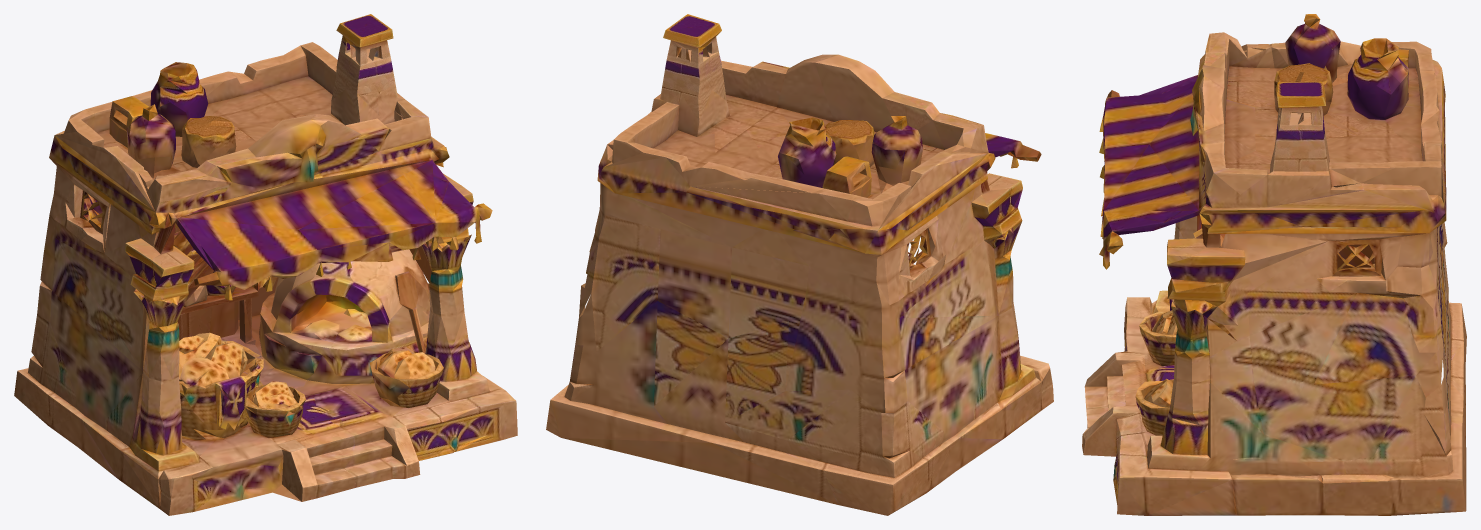
Rendered from bakery.glb.
3 views of the same model, side by side, from view 1: azimuth 30°, elevation 25°; view 2: azimuth 150°, elevation 25°; view 3: azimuth 270°, elevation 25° (orthographic). The views are drawn at different scales.
Size of the model in its own units: 1.89 by 1.9 by 1.69.
1 material, 1 textured.
